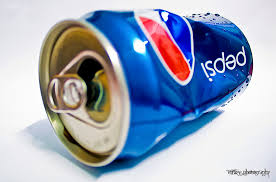can: (24, 8, 275, 182)
